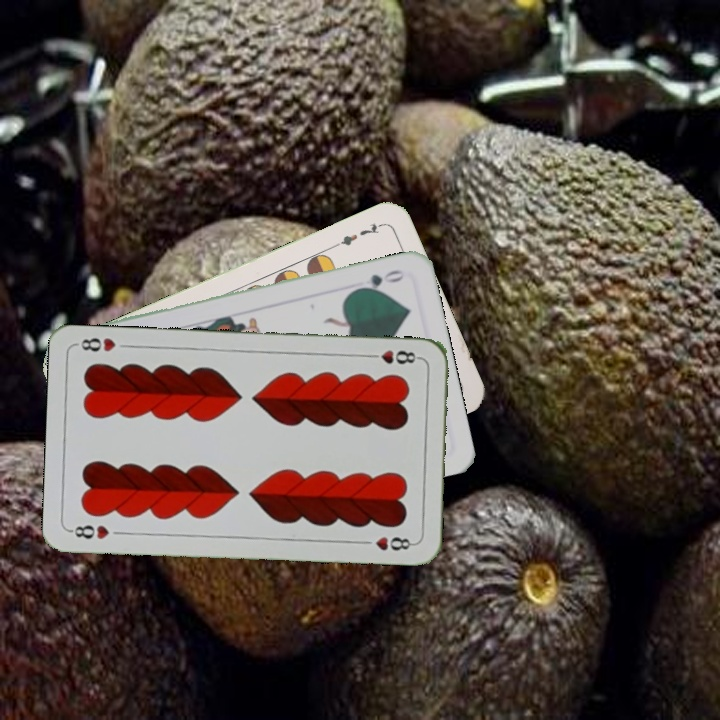E7: (330, 219, 385, 251)
GO: (351, 265, 407, 293)
H8: (363, 346, 423, 367), (67, 521, 112, 542)
